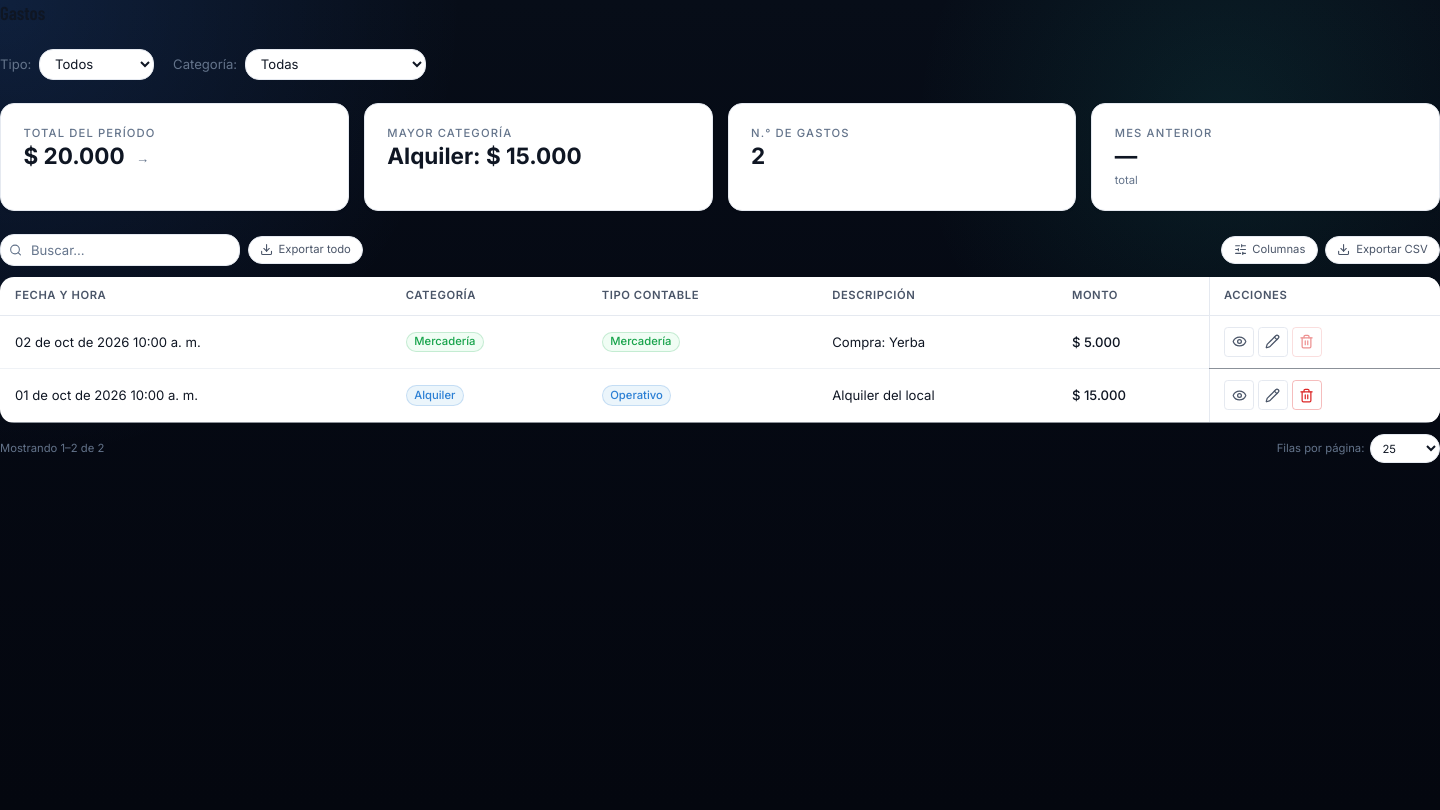
Scenario: el editor de una línea de compra deja fijos monto, categoría, fecha y proveedor, y explica por qué
Click the button named "Editar gasto" in the row of "02 de oct de 2026 10:00 a. m." at x=1273, y=342, box [1258,327,1288,357]
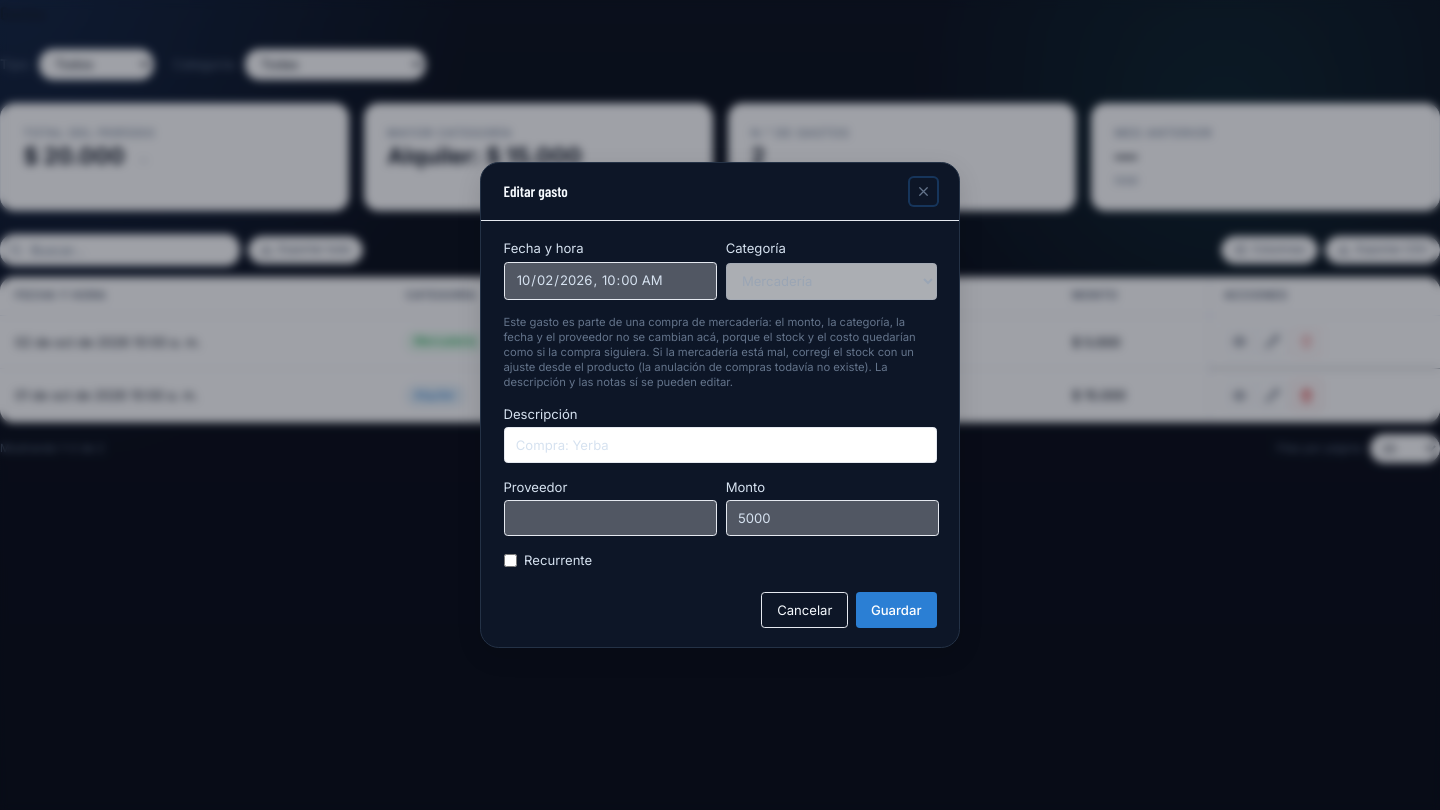
Expected: the number field labelled "Monto" is disabled, [726,500,939,536]
Expected: the dropdown labelled "Categoría" is disabled, [726,263,936,300]
Expected: the field labelled "Fecha y hora" is disabled, [504,262,717,300]
